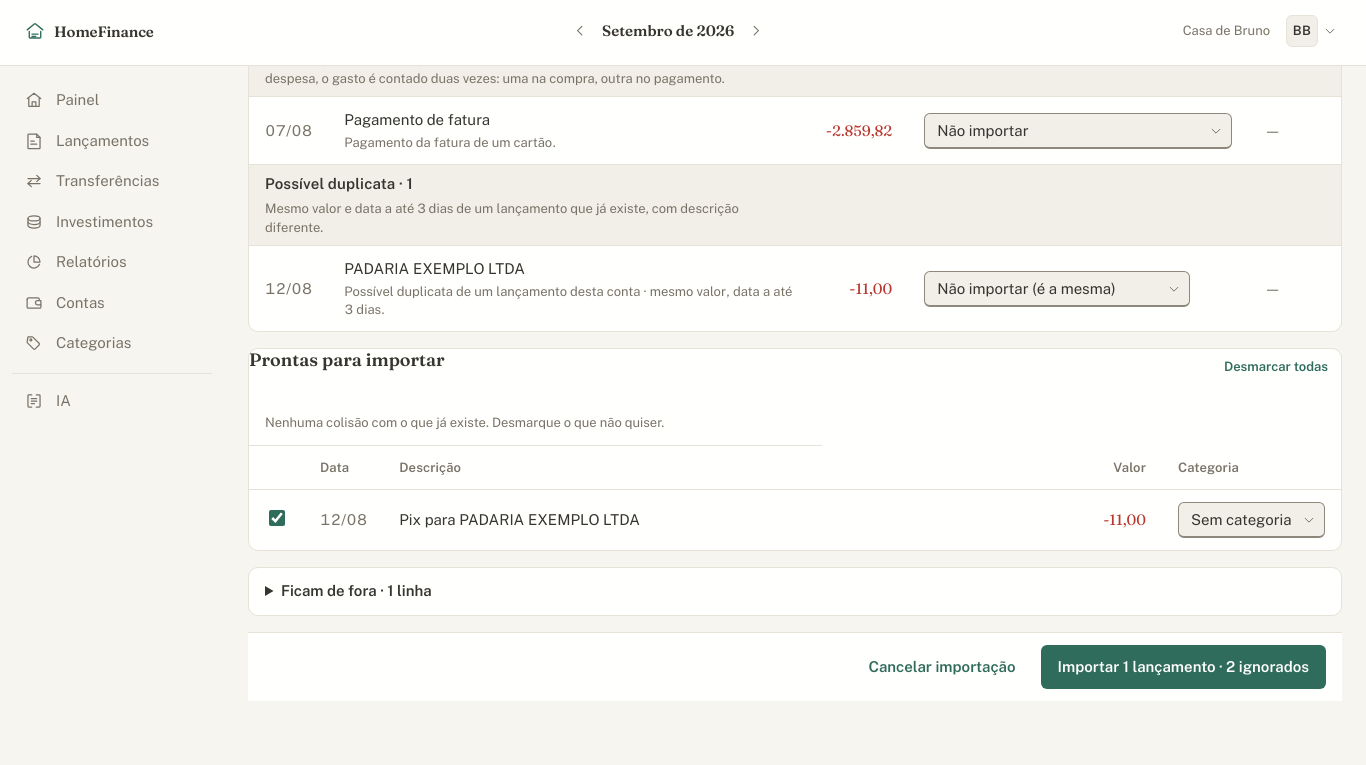
it: ImportReviewScreen › com nada marcado usa aria-disabled e explica ao clicar — nunca disabled
(page scrolled)
Click the checkbox named "Importar Pix para PADARIA".
click(277, 518)  # box [269, 510, 285, 526]
(page scrolled)
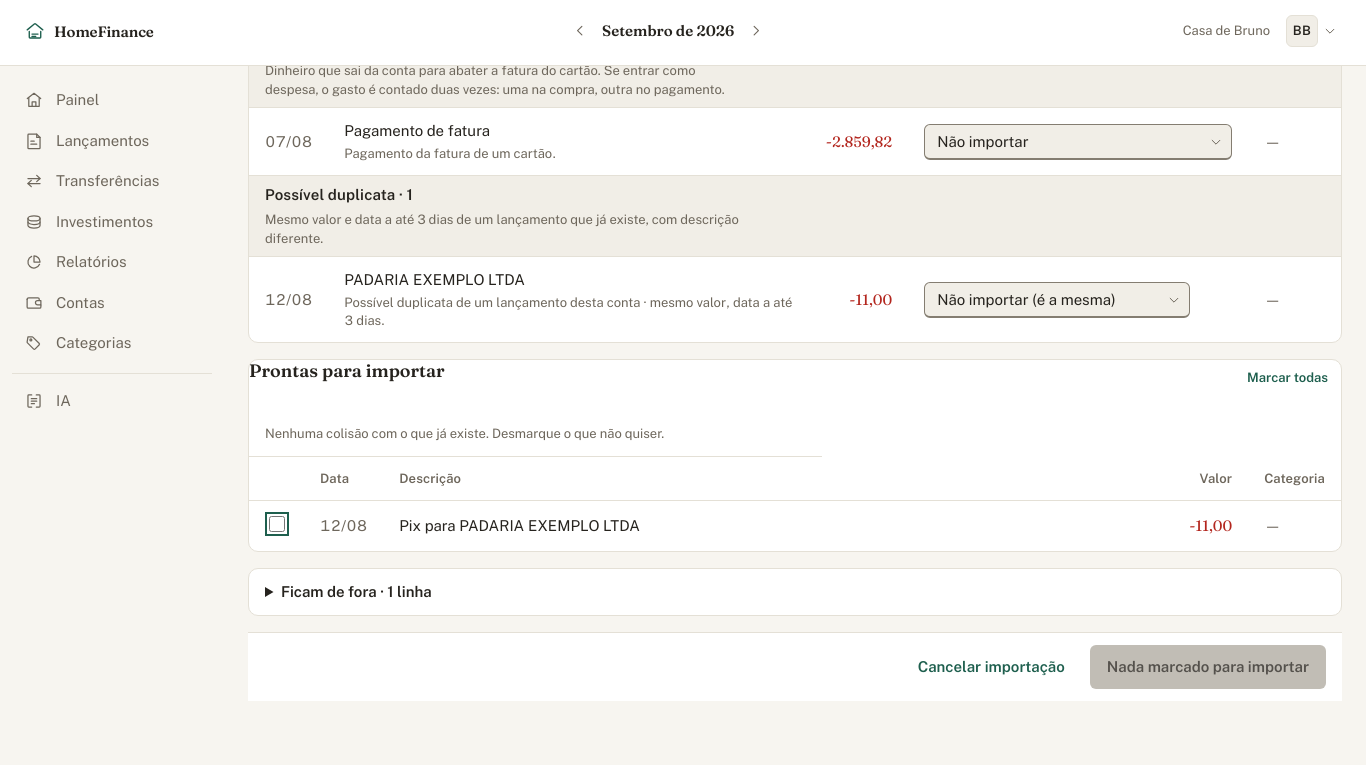
Expected: the button "Nada marcado para importar" is enabled
Click the button "Nada marcado para importar".
click(1208, 667)  # box [1090, 645, 1326, 689]
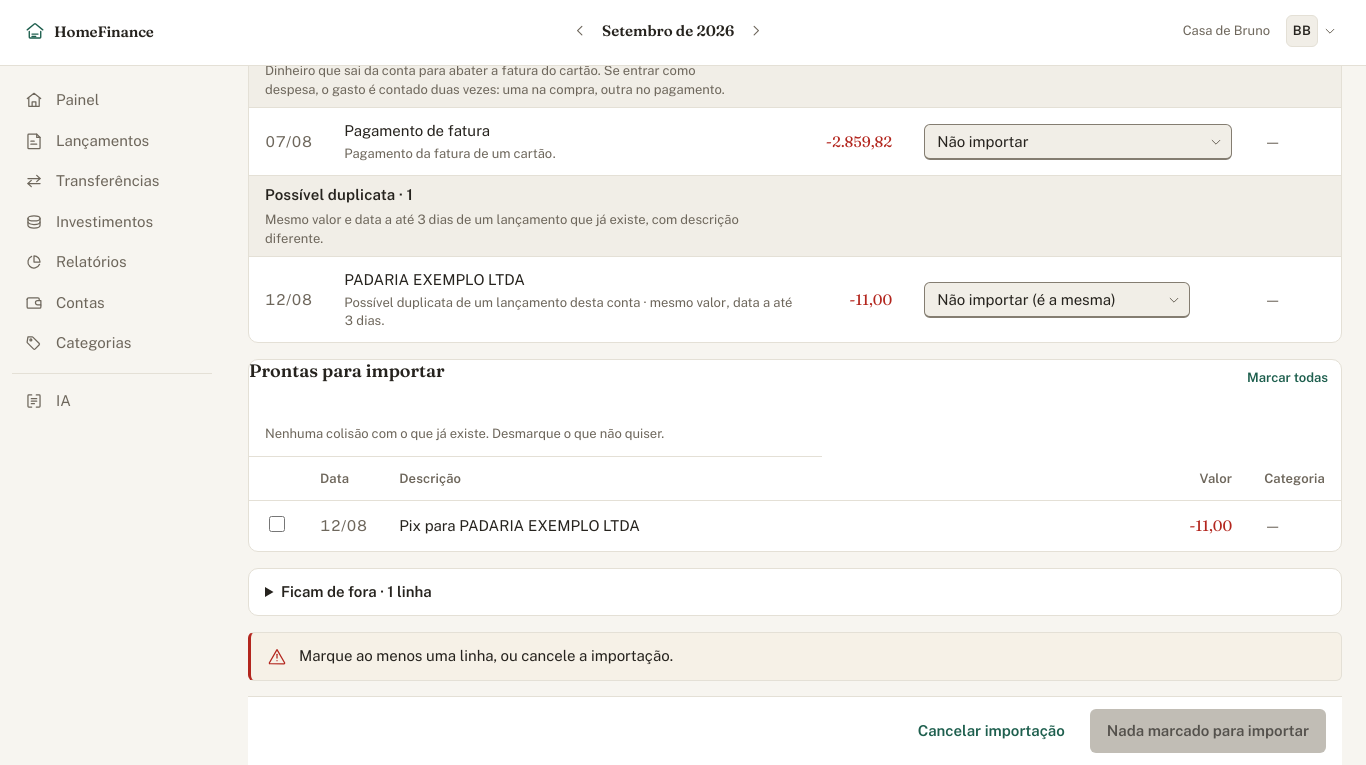
Expected: the text "Marque ao menos uma linha, ou cancele a importação." is shown, [299, 645, 673, 668]
